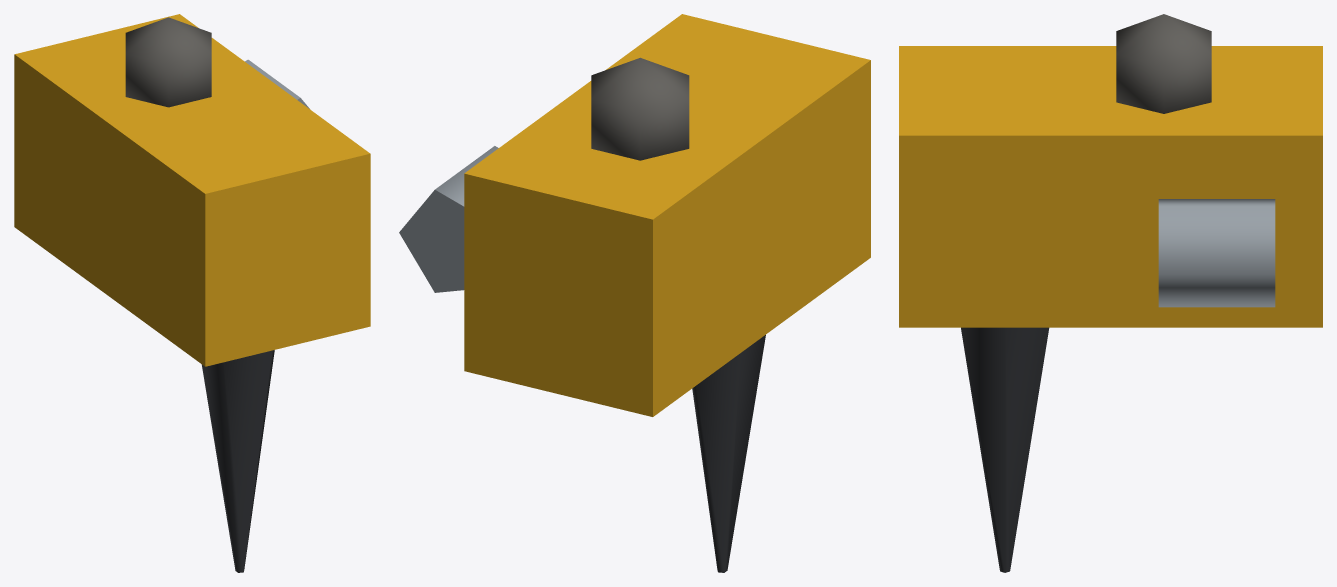
The model's file is space_orbital_extractor_t1_lod1.glb.
3 renders of one model, left to right at view 1: azimuth 30°, elevation 25°; view 2: azimuth 150°, elevation 25°; view 3: azimuth 270°, elevation 25°, orthographic. The views are drawn at different scales.
Parts seen in each view (by area): view 1: body, drill; view 2: body, drill; view 3: body, drill.
Boxes of the visible parts, left/top/right/bottom form: body: left=14, top=14, right=370, bottom=366; drill: left=201, top=350, right=274, bottom=572; body: left=399, top=14, right=870, bottom=416; drill: left=692, top=335, right=765, bottom=572; body: left=899, top=14, right=1322, bottom=327; drill: left=961, top=327, right=1049, bottom=572.
Bounding box in the file's own units: 5.9 × 11.6 × 8.
